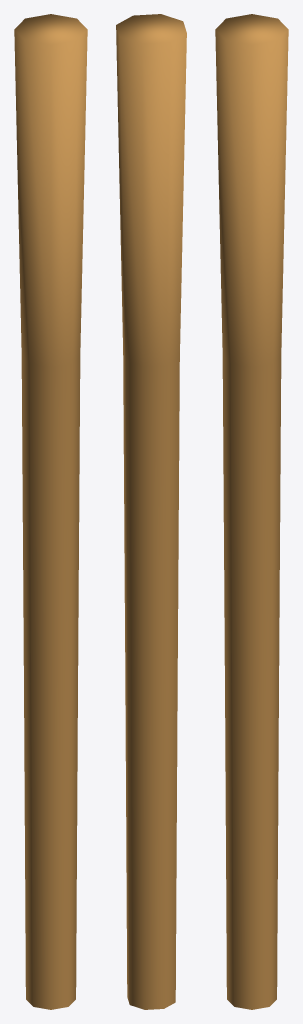
File: Stick.fbx
The picture shows the model from 3 angles, left to right: view 1: azimuth 90°, elevation 25°; view 2: azimuth 210°, elevation 25°; view 3: azimuth 270°, elevation 25°; orthographic projection.
Visible parts, largest first — view 1: Stick; view 2: Stick; view 3: Stick.
Part boxes in pixels (box(x1,y1,x2,y2)): Stick: box(14, 14, 87, 1009); Stick: box(116, 14, 186, 1009); Stick: box(215, 14, 288, 1009).
Size of the model in its own units: 21.32 by 311 by 21.32.
